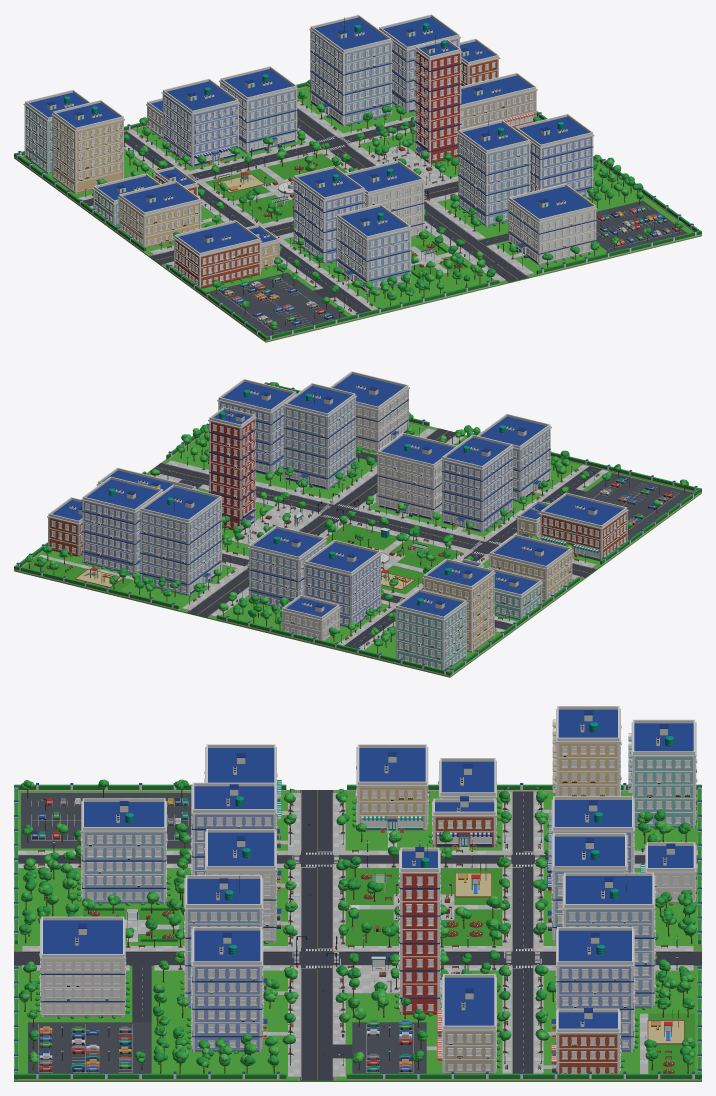
The model's file is OfficeDadDistrict.fbx.
3 renders of one model, top to bottom at view 1: azimuth 30°, elevation 25°; view 2: azimuth 150°, elevation 25°; view 3: azimuth 270°, elevation 25°, orthographic. The views are drawn at different scales.
Parts seen in each view (by area): view 1: O_20_20_0, O_22_16_0, O_22_22_0, O_22_24_0, O_22_19_0, O_15_23_0, O_15_16_0, O_18_16_0, O_18_23_0, O_15_21_0, O_19_16_0, O_23_21_0 (+65 smaller); view 2: O_20_20_0, O_22_16_0, O_18_21_0, O_19_21_0, O_22_22_0, O_15_21_0, O_23_15_0, O_23_16_0, O_15_15_0, O_18_16_0, O_19_16_0, O_22_19_0 (+63 smaller); view 3: O_20_20_0, O_22_24_0, O_18_23_0, O_20_17_0, O_23_21_0, O_19_19_0, O_24_24_0, O_22_16_0, O_22_19_0, O_15_15_0, O_23_16_0, O_24_18_0 (+88 smaller).
Part boxes in pixels (x1=…): O_20_20_0: x1=14, y1=86, x2=701, y2=342; O_22_16_0: x1=311, y1=15, x2=410, y2=125; O_22_22_0: x1=459, y1=120, x2=543, y2=226; O_22_24_0: x1=509, y1=184, x2=597, y2=265; O_22_19_0: x1=414, y1=51, x2=461, y2=163; O_15_23_0: x1=207, y1=272, x2=347, y2=335; O_15_16_0: x1=53, y1=101, x2=124, y2=194; O_18_16_0: x1=163, y1=79, x2=239, y2=164; O_18_23_0: x1=337, y1=204, x2=411, y2=289; O_15_21_0: x1=174, y1=220, x2=259, y2=286; O_19_16_0: x1=219, y1=69, x2=295, y2=153; O_23_21_0: x1=515, y1=114, x2=591, y2=197; O_20_20_0: x1=14, y1=422, x2=701, y2=677; O_22_16_0: x1=135, y1=484, x2=221, y2=593; O_18_21_0: x1=424, y1=435, x2=511, y2=534; O_19_21_0: x1=376, y1=435, x2=453, y2=523; O_22_22_0: x1=283, y1=383, x2=355, y2=486; O_15_21_0: x1=539, y1=495, x2=626, y2=564; O_23_15_0: x1=24, y1=496, x2=135, y2=590; O_23_16_0: x1=84, y1=476, x2=162, y2=572; O_15_15_0: x1=397, y1=589, x2=466, y2=669; O_18_16_0: x1=304, y1=540, x2=379, y2=625; O_19_16_0: x1=250, y1=528, x2=327, y2=606; O_22_19_0: x1=211, y1=419, x2=256, y2=528; O_20_20_0: x1=14, y1=790, x2=701, y2=1081; O_22_24_0: x1=24, y1=916, x2=125, y2=1018; O_18_23_0: x1=81, y1=801, x2=166, y2=905; O_20_17_0: x1=486, y1=791, x2=555, y2=1073; O_23_21_0: x1=194, y1=927, x2=295, y2=1048; O_19_19_0: x1=345, y1=868, x2=502, y2=945; O_24_24_0: x1=28, y1=1022, x2=151, y2=1073; O_22_16_0: x1=562, y1=872, x2=654, y2=1008; O_22_19_0: x1=398, y1=873, x2=439, y2=1014; O_15_15_0: x1=628, y1=719, x2=693, y2=825; O_23_16_0: x1=555, y1=927, x2=631, y2=1048; O_24_18_0: x1=426, y1=974, x2=494, y2=1073.
Bounding box in the file's own units: 500 × 129 × 500.
